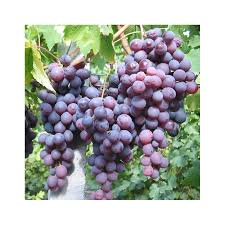Black grapes: (121, 30, 195, 181), (34, 52, 99, 196), (79, 86, 136, 200)
